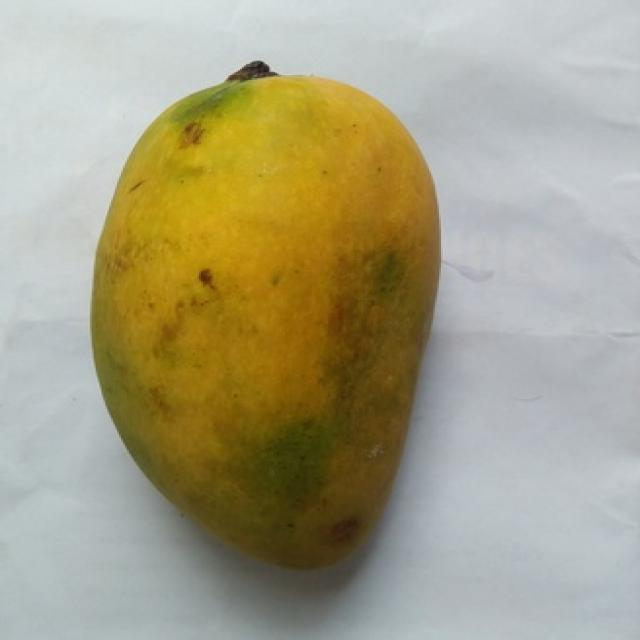Mango: (92, 62, 437, 567)
